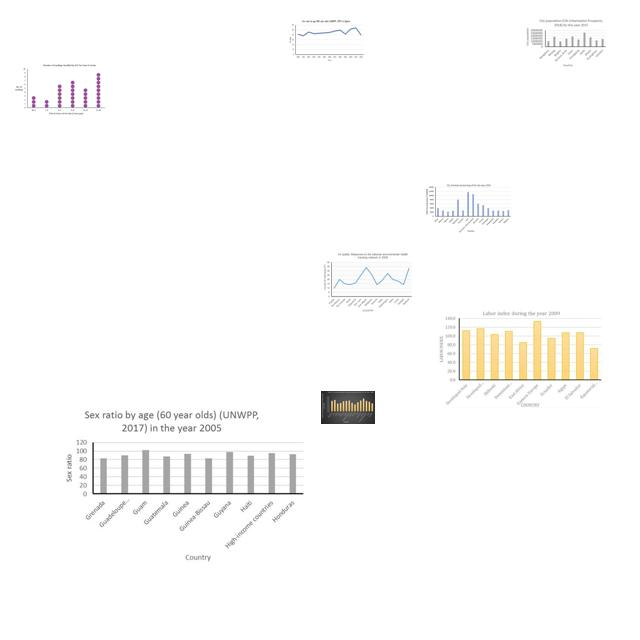Graph: (60, 404, 307, 564), (438, 309, 603, 408), (322, 252, 413, 314), (12, 62, 107, 117), (425, 183, 512, 233), (524, 17, 608, 68), (288, 19, 365, 62), (321, 391, 375, 424)
